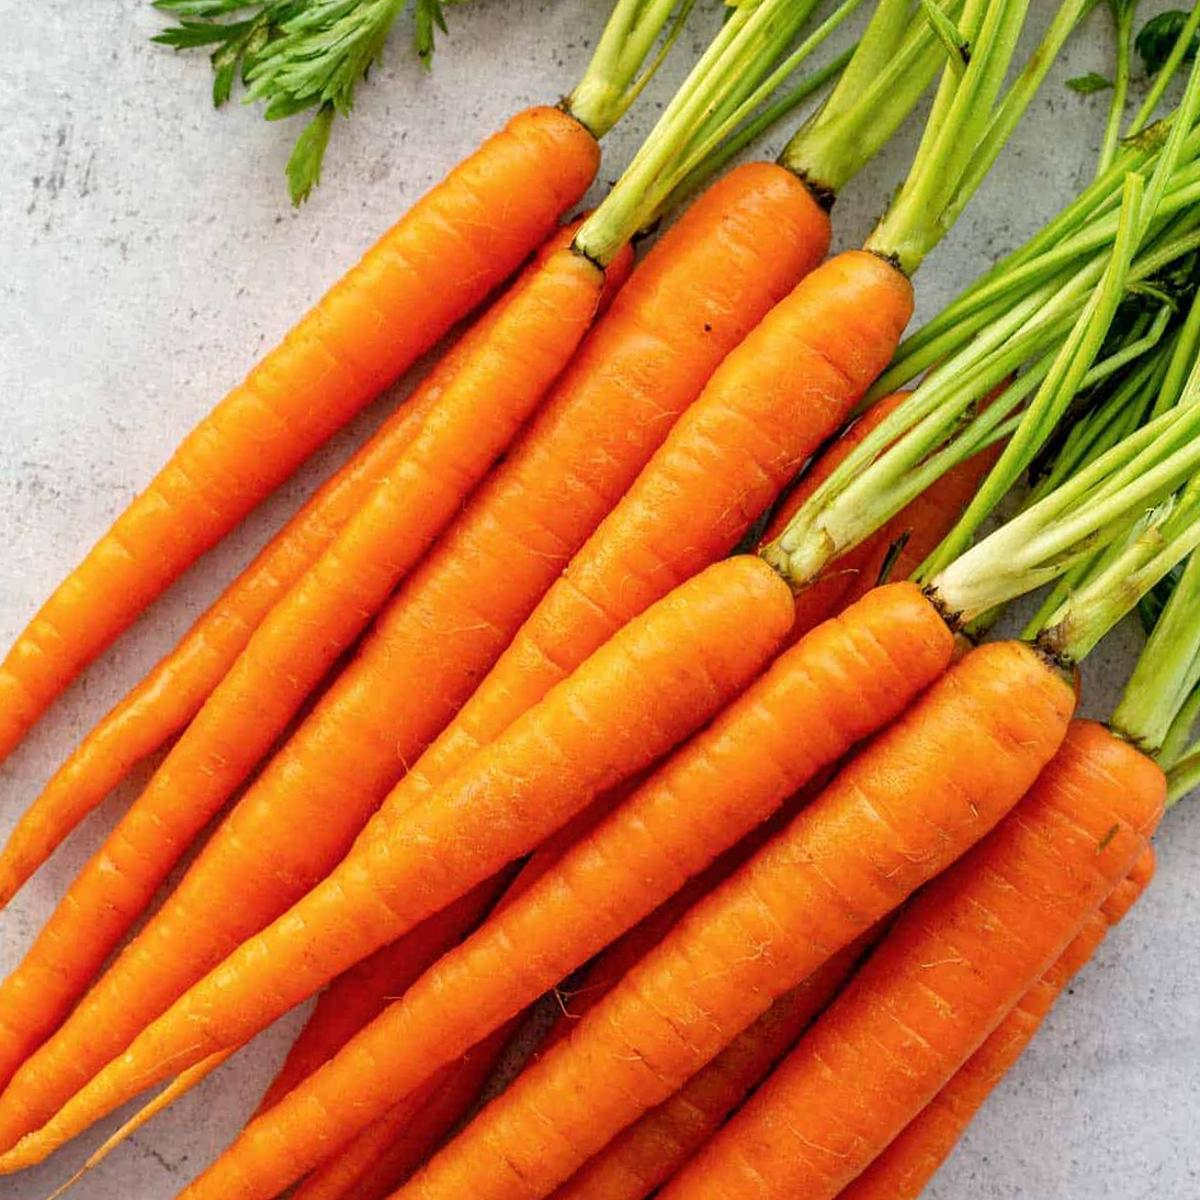carrot: (65, 86, 1152, 1200), (75, 110, 718, 1160), (562, 96, 1062, 1200)
